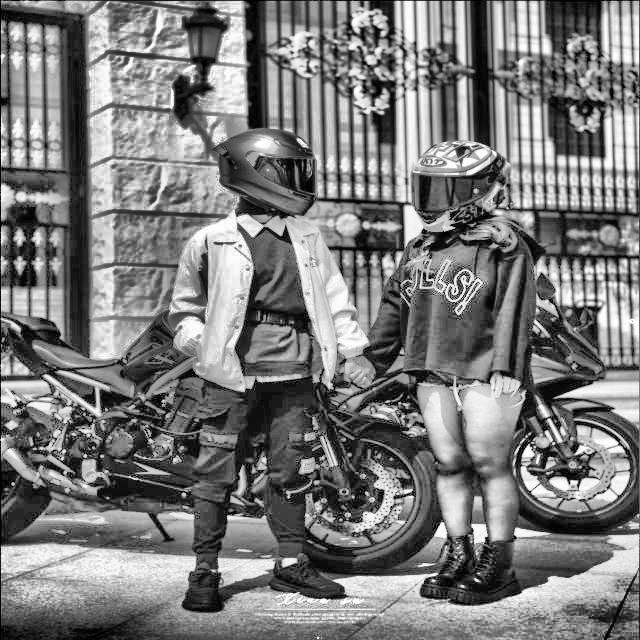Helmet: (402, 136, 518, 238), (205, 125, 322, 221)
